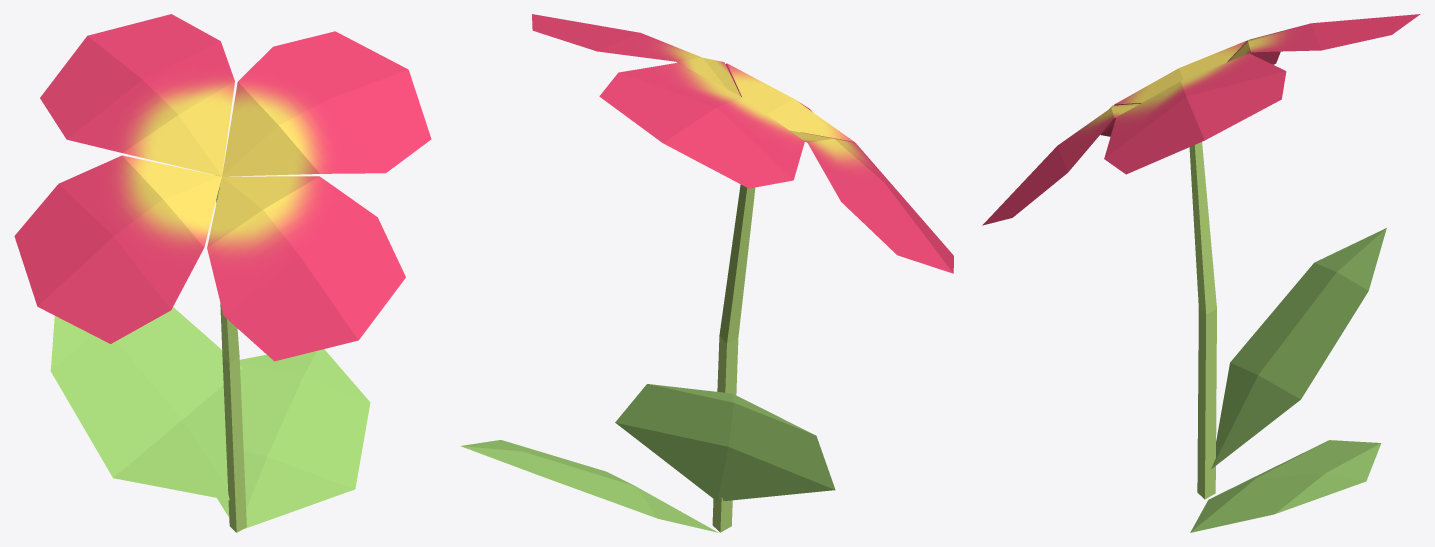
The model's file is Flower_c_OneS_10.fbx.
3 renders of one model, left to right at view 1: azimuth 30°, elevation 25°; view 2: azimuth 150°, elevation 25°; view 3: azimuth 270°, elevation 25°, orthographic. The views are drawn at different scales.
Parts seen in each view (by area): view 1: Flower_c_OneS_10; view 2: Flower_c_OneS_10; view 3: Flower_c_OneS_10.
Part boxes in pixels (x1,y1,x2,y2): Flower_c_OneS_10: (14,14,431,532); Flower_c_OneS_10: (460,14,953,532); Flower_c_OneS_10: (982,14,1420,532).
Size of the model in its own units: 30.14 by 34.54 by 28.91.
